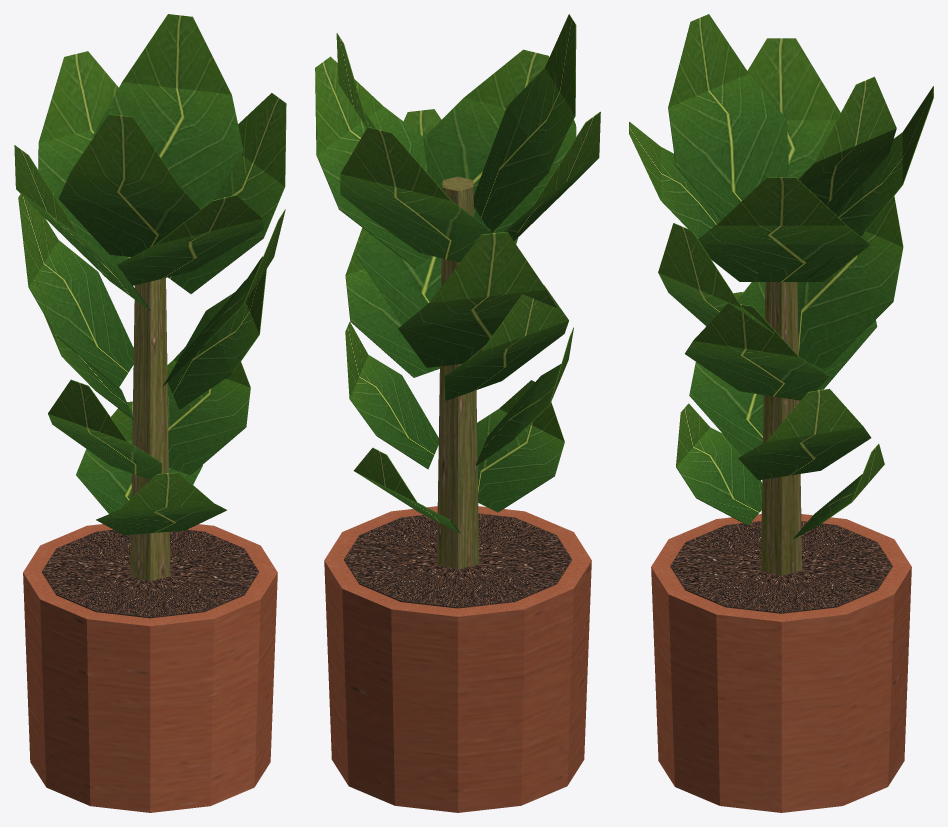
File: plant.glb
The picture shows the model from 3 angles, left to right: view 1: azimuth 30°, elevation 25°; view 2: azimuth 150°, elevation 25°; view 3: azimuth 270°, elevation 25°; orthographic projection. The views are drawn at different scales.
Visible parts, largest first — view 1: core_plant; view 2: core_plant; view 3: core_plant.
Part boxes in pixels (<box>): core_plant: <box>14,14,286,812</box>; core_plant: <box>315,14,600,812</box>; core_plant: <box>629,14,933,812</box>.
Size of the model in its own units: 0.384 by 0.9954 by 0.384.
1 material, 1 textured.
